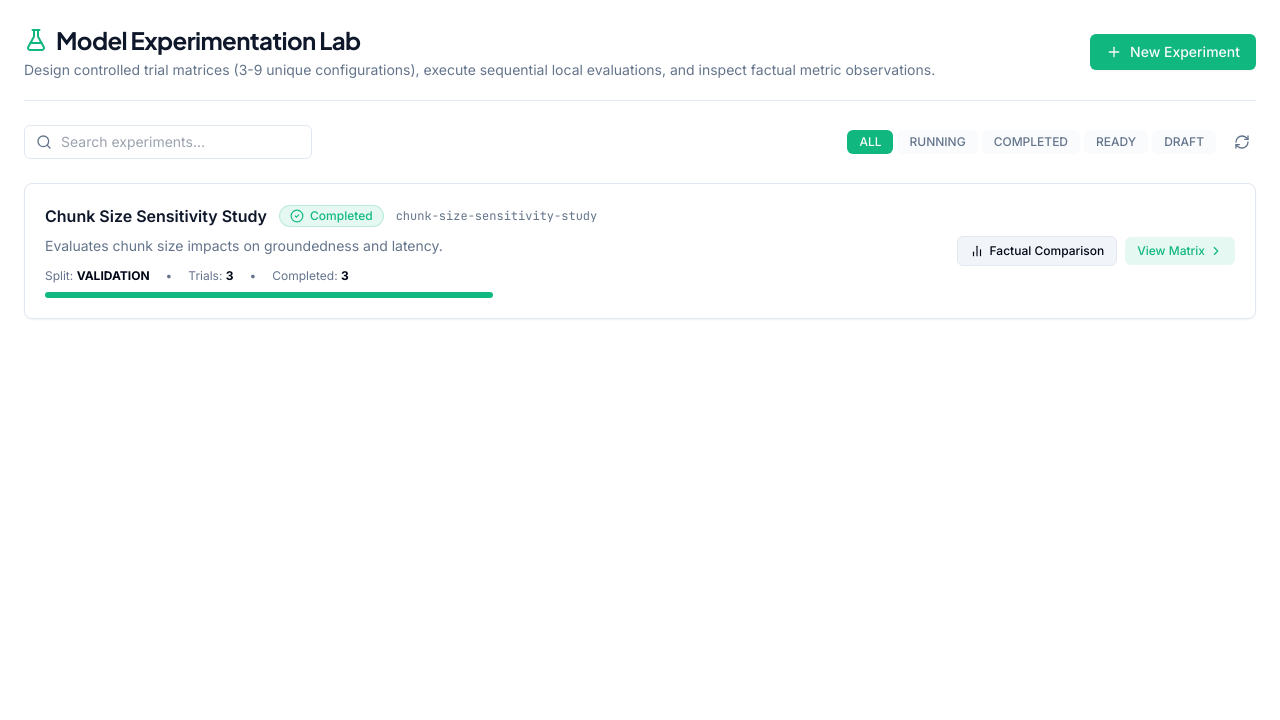
Test: Milestone 7: Experiment Lab UI › filters experiments by search query
Expected: the text "Chunk Size Sensitivity Study" is shown, [45,204,267,228]
Type "Nonexistent" into the field with placeholder "Search experiments...".
click(168, 142); type("Nonexistent")  # box [24,125,312,159]
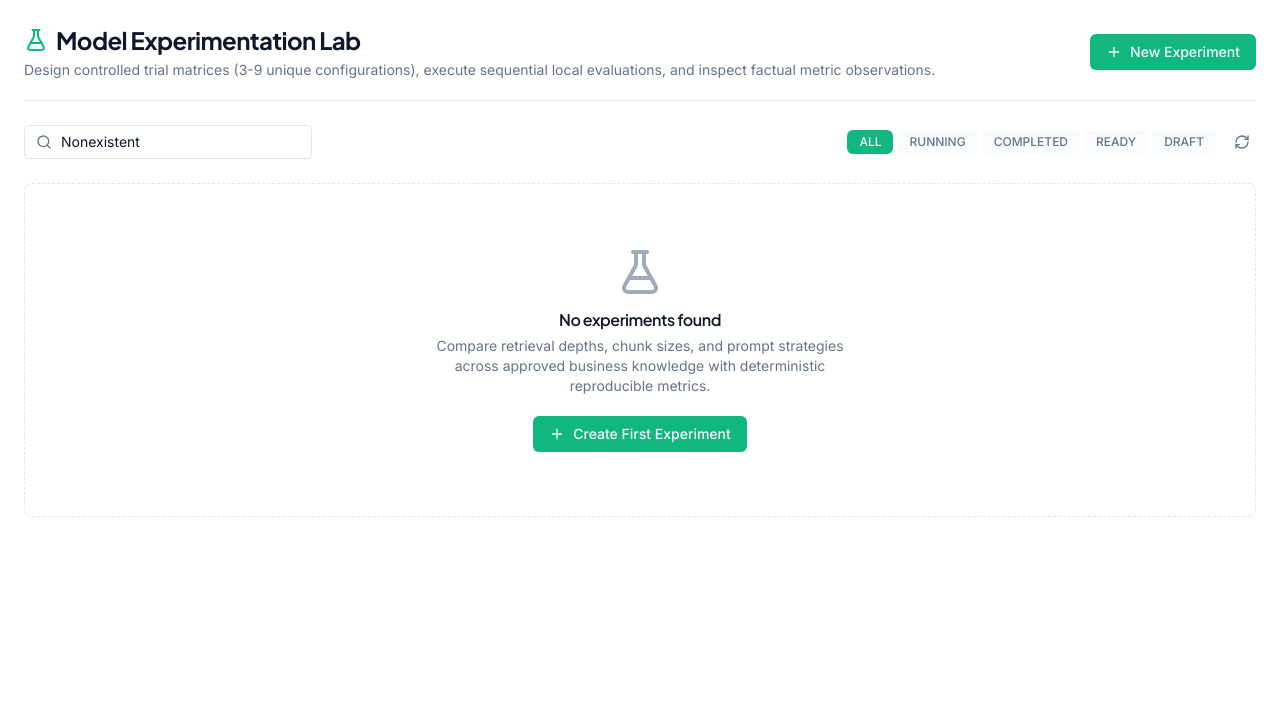
Now the text "Chunk Size Sensitivity Study" is gone
